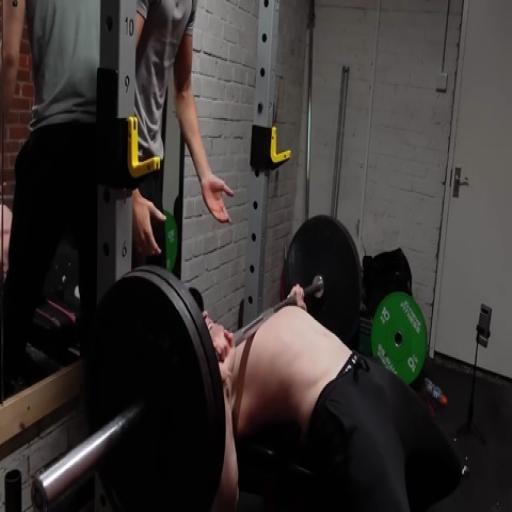exercise: (0, 0, 235, 395), (196, 286, 465, 510)
